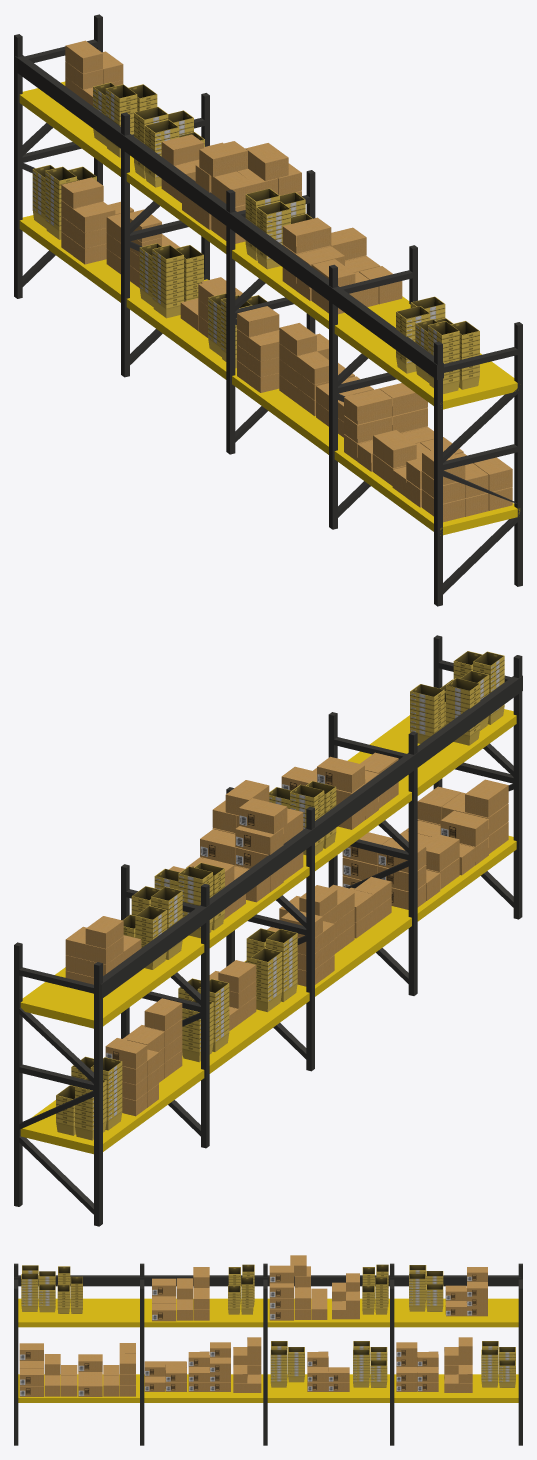
Rendered from ShelfF_01.glb.
3 views of the same model, one above another, from view 1: azimuth 30°, elevation 25°; view 2: azimuth 150°, elevation 25°; view 3: azimuth 270°, elevation 25° (orthographic). The views are drawn at different scales.
Parts seen in each view (by area): view 1: aws_robomaker_warehouse_ShelfF_01_visual; view 2: aws_robomaker_warehouse_ShelfF_01_visual; view 3: aws_robomaker_warehouse_ShelfF_01_visual.
Part boxes in pixels (x1=…): aws_robomaker_warehouse_ShelfF_01_visual: x1=14, y1=14, x2=522, y2=606; aws_robomaker_warehouse_ShelfF_01_visual: x1=14, y1=635, x2=522, y2=1226; aws_robomaker_warehouse_ShelfF_01_visual: x1=14, y1=1255, x2=522, y2=1445.
Size of the model in its own units: 2.12 by 6.53 by 18.05.
Materials: 3 (3 with a texture image).
